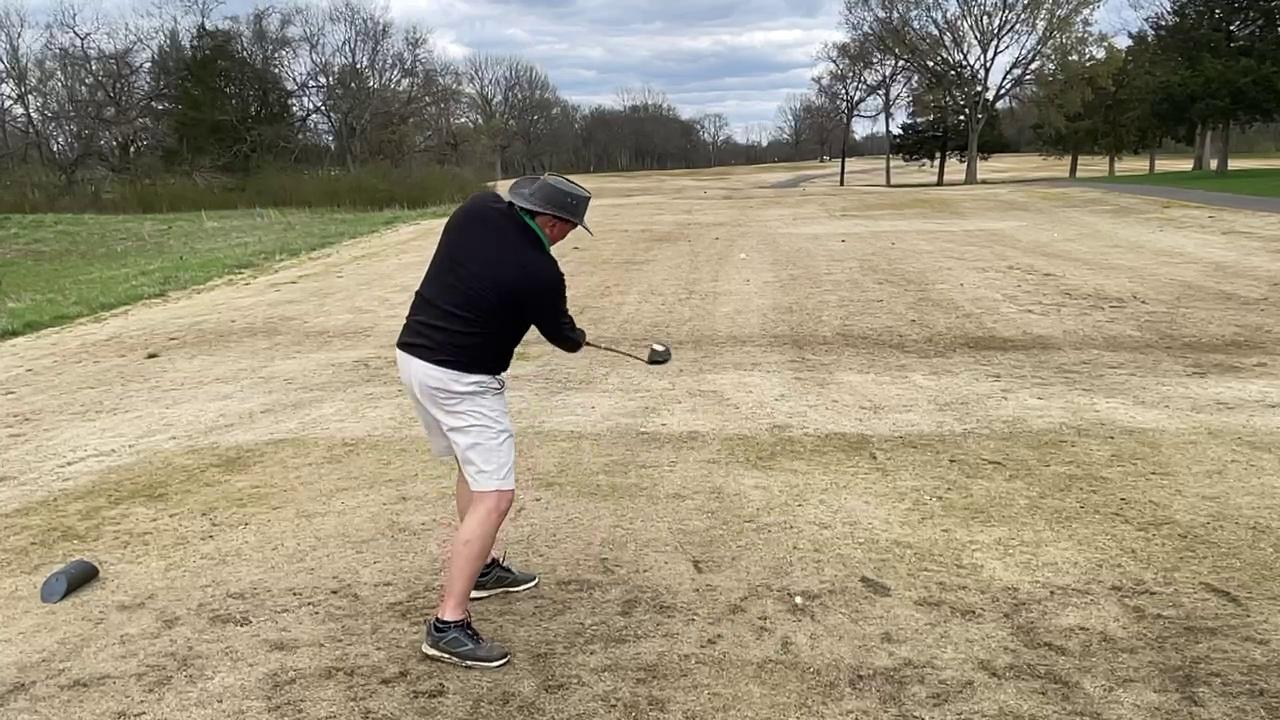ClubHead: (639, 339, 678, 370)
GolfBall: (738, 250, 751, 264)
